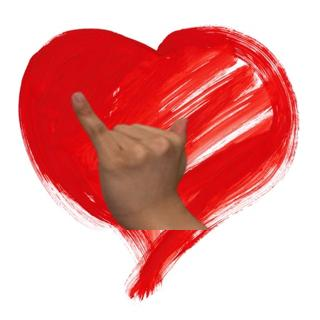HAVE: (62, 87, 198, 221)
